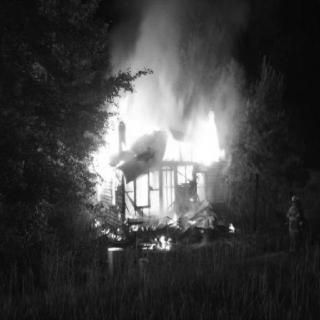Fire: (86, 97, 232, 217)
Smoke: (133, 20, 181, 109)
